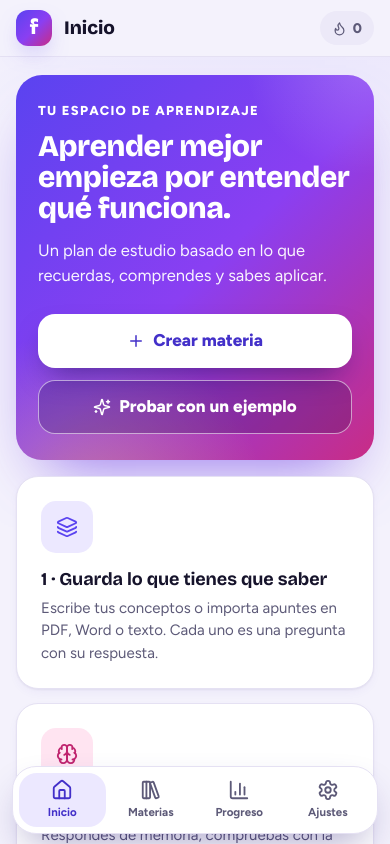
Test: interfaz 0.7 › la barra inferior del móvil lleva a las cuatro secciones y marca la actual
This screenshot has width=390, height=844.
Click the button with class "tab-item" showing "Materias".
click(151, 800)  # box [108,773,194,827]
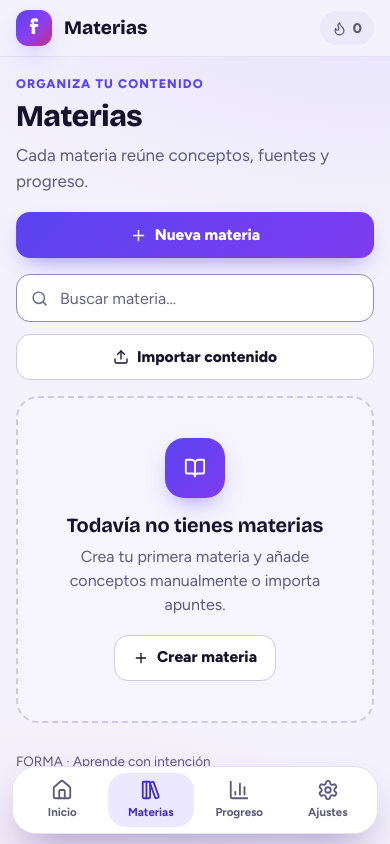
Result: the heading "Materias" is shown at [16,98,142,134]
Click the button with class "tab-item" showing "Progreso".
click(239, 800)  # box [196,773,282,827]
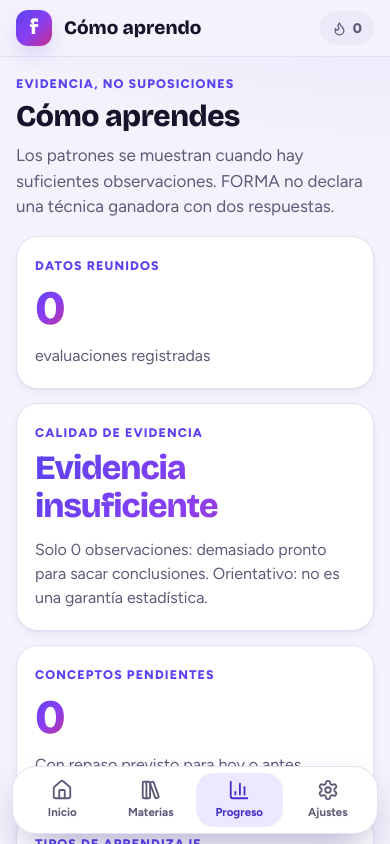
Result: the heading "Cómo aprendes" is shown at [16,98,240,134]
Click the button with class "tab-item" showing "Ajustes".
click(328, 800)  # box [284,773,371,827]
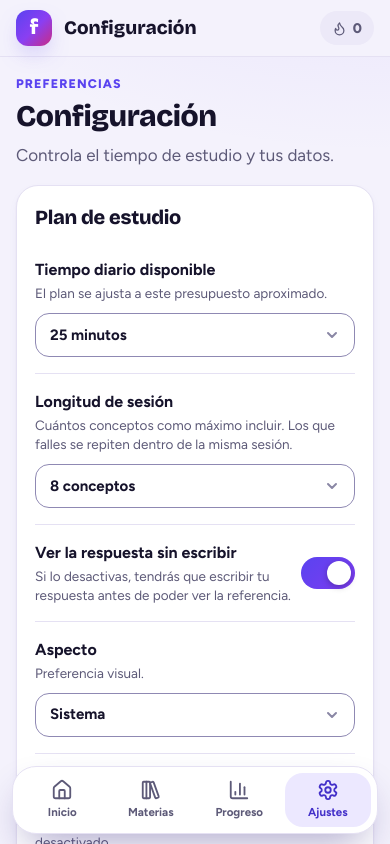
Result: the heading "Configuración" is shown at [16,98,216,134]
Click the button with class "tab-item" showing "Inicio".
click(62, 800)  # box [19,773,106,827]
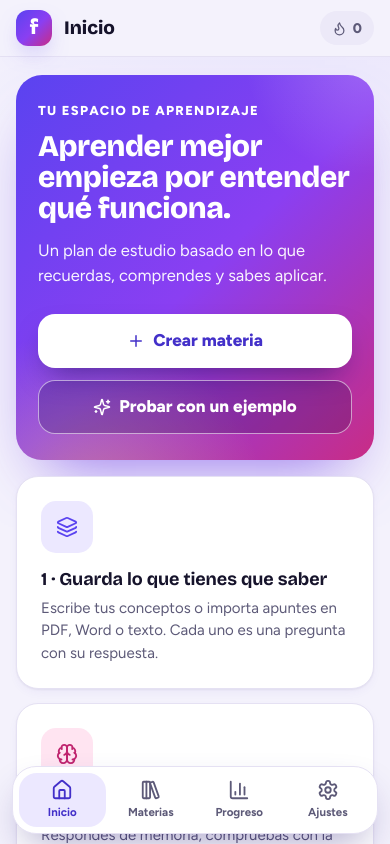
Result: the text "Probar con un ejemplo" is shown at [38,380,352,434]
